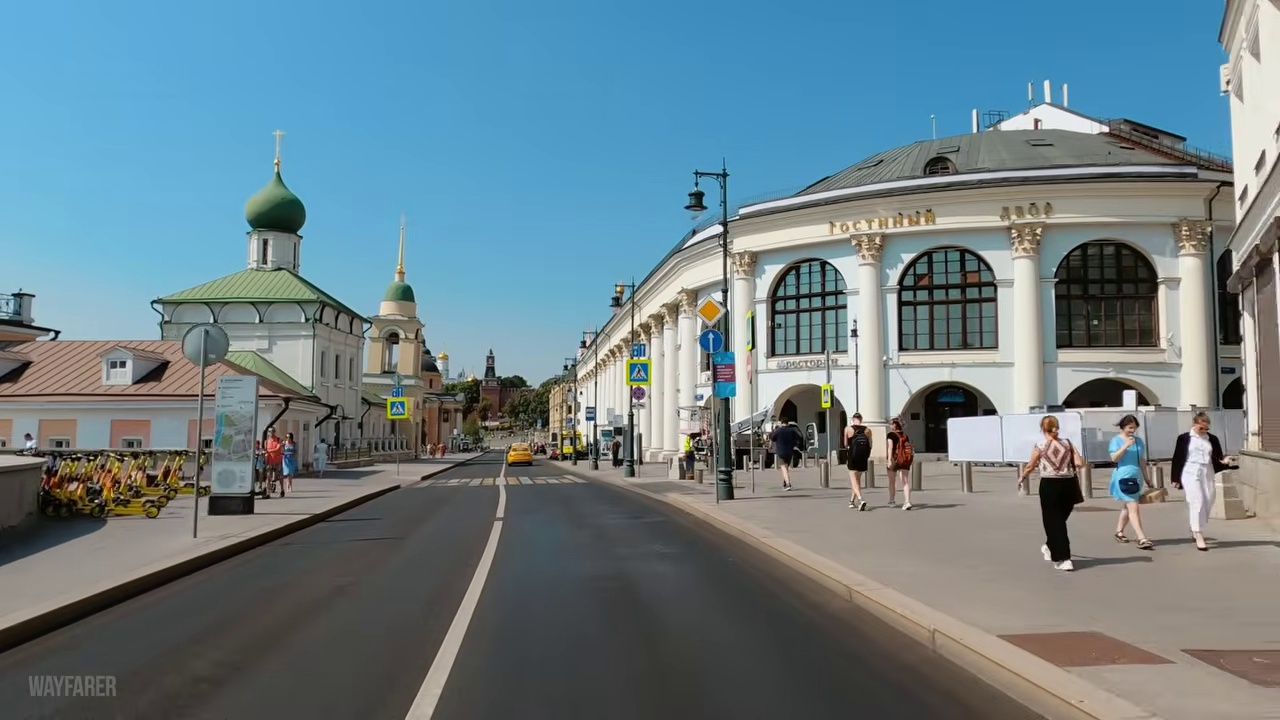apagada: (676, 187, 709, 220)
